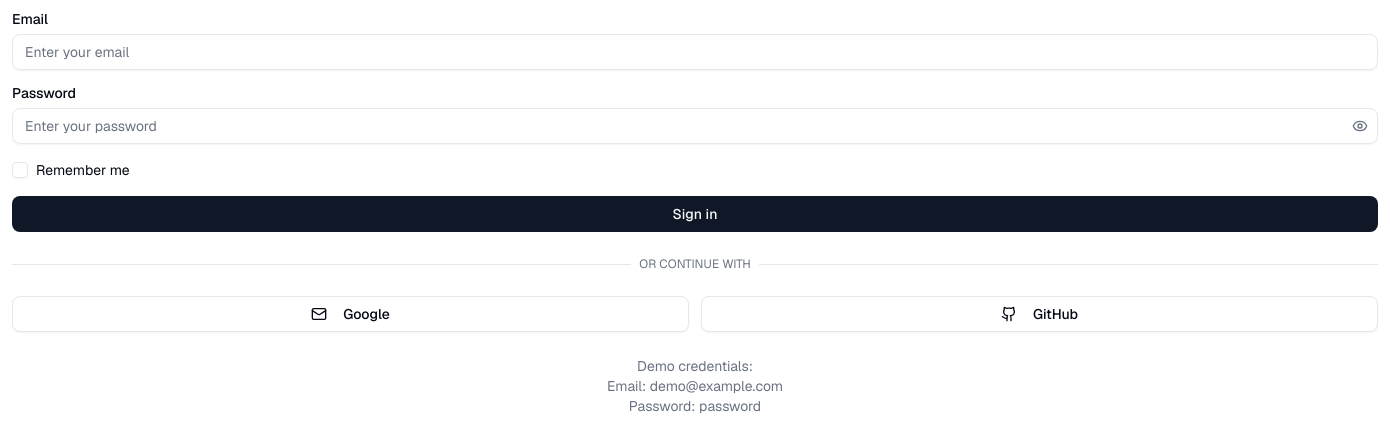
it: SignInForm › toggles password visibility
In the password field with placeholder "Enter your password": (695, 126) [12,108,1378,144], type "test"
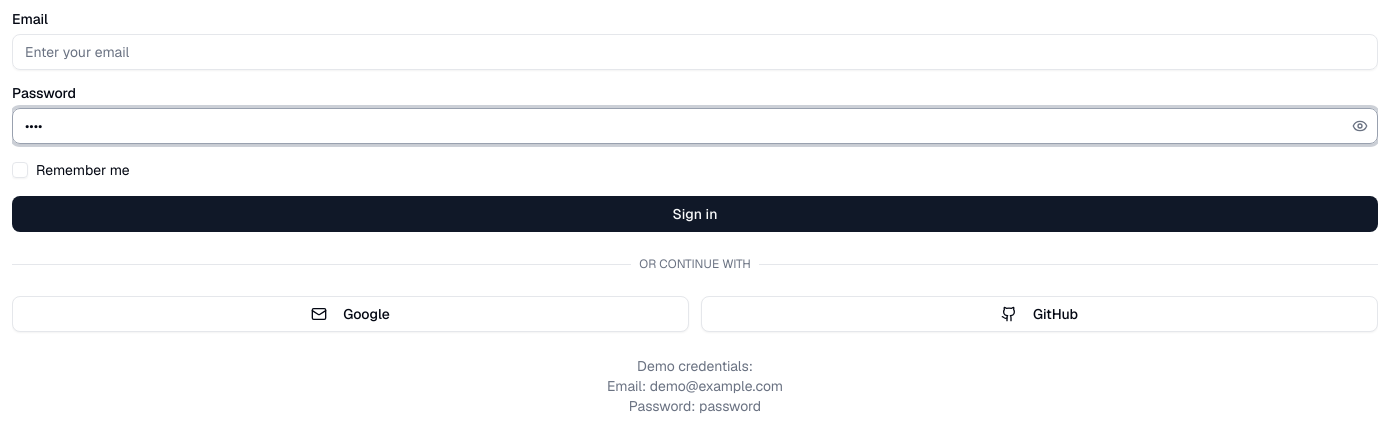
Click the button named "show password": (1360, 126) [1342,108,1378,144]
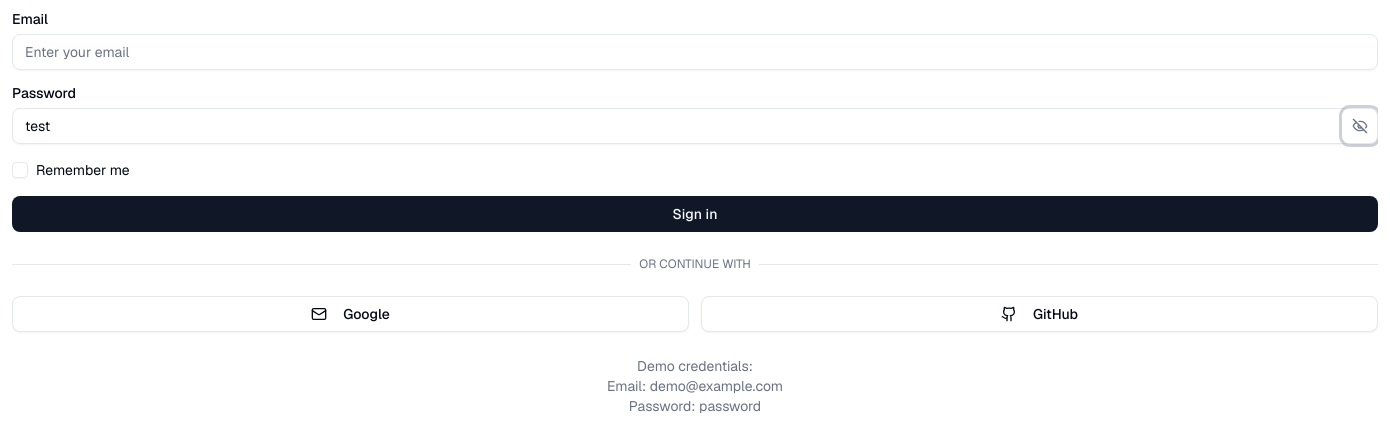
Expected: the field with placeholder "Enter your password" shows its text, [12,108,1378,144]
